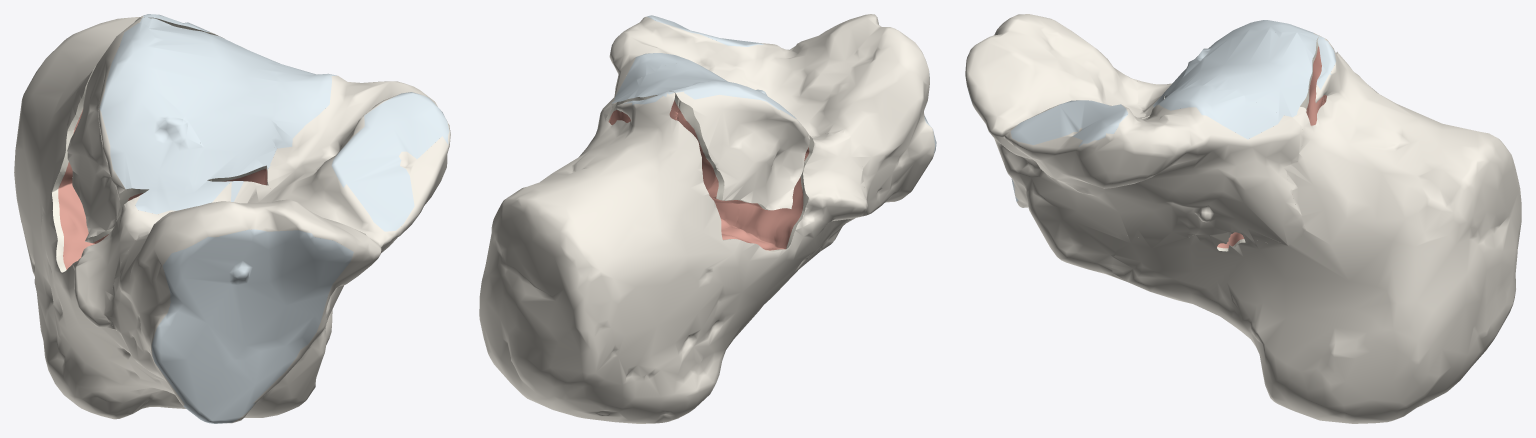
The model's file is 82C2_young.glb.
3 views of the same model, side by side, from view 1: azimuth 30°, elevation 25°; view 2: azimuth 150°, elevation 25°; view 3: azimuth 270°, elevation 25° (orthographic). The views are drawn at different scales.
Visible parts, largest first — view 1: calcaneus: sustentacular fragment, calcaneus: tuberosity, calcaneus: lateral joint fragment, calcaneus: central depressed fragment; view 2: calcaneus: tuberosity, calcaneus: sustentacular fragment, calcaneus: lateral joint fragment, calcaneus: central depressed fragment; view 3: calcaneus: tuberosity, calcaneus: sustentacular fragment, calcaneus: central depressed fragment, calcaneus: lateral joint fragment.
Part boxes in pixels (x1,y1,x2,y2): calcaneus: sustentacular fragment: [105, 60, 450, 423]; calcaneus: tuberosity: [14, 14, 332, 419]; calcaneus: lateral joint fragment: [67, 23, 211, 243]; calcaneus: central depressed fragment: [133, 17, 276, 184]; calcaneus: tuberosity: [479, 91, 867, 423]; calcaneus: sustentacular fragment: [597, 14, 936, 252]; calcaneus: lateral joint fragment: [677, 80, 810, 210]; calcaneus: central depressed fragment: [610, 63, 729, 124]; calcaneus: tuberosity: [1112, 36, 1521, 423]; calcaneus: sustentacular fragment: [965, 14, 1305, 277]; calcaneus: central depressed fragment: [1164, 30, 1324, 191]; calcaneus: lateral joint fragment: [1165, 20, 1326, 102].
Size of the model in its own units: 0.0475 by 0.0513 by 0.0757.
